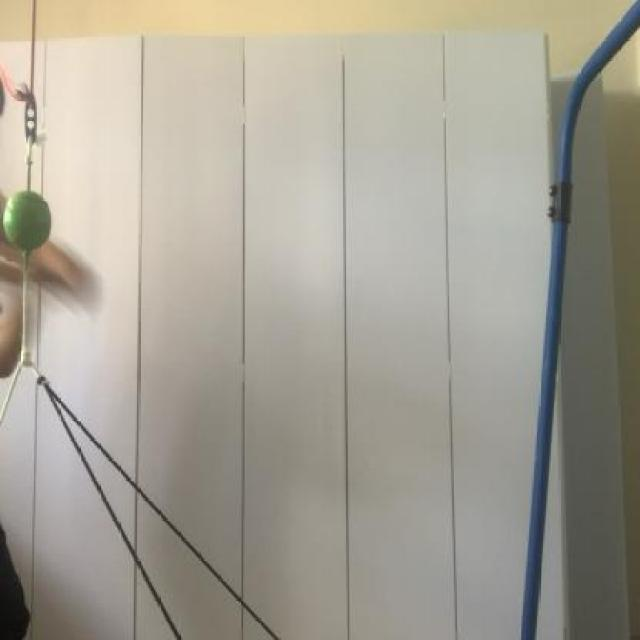baseball: (0, 184, 54, 250)
